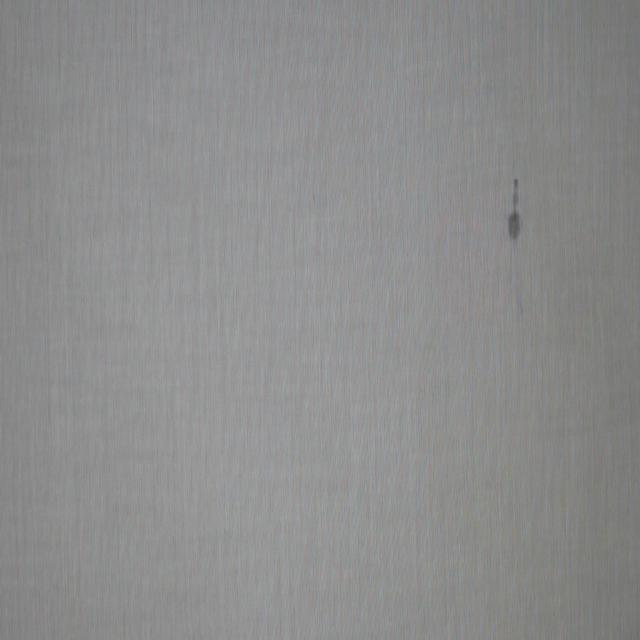dirty: (508, 177, 522, 241)
